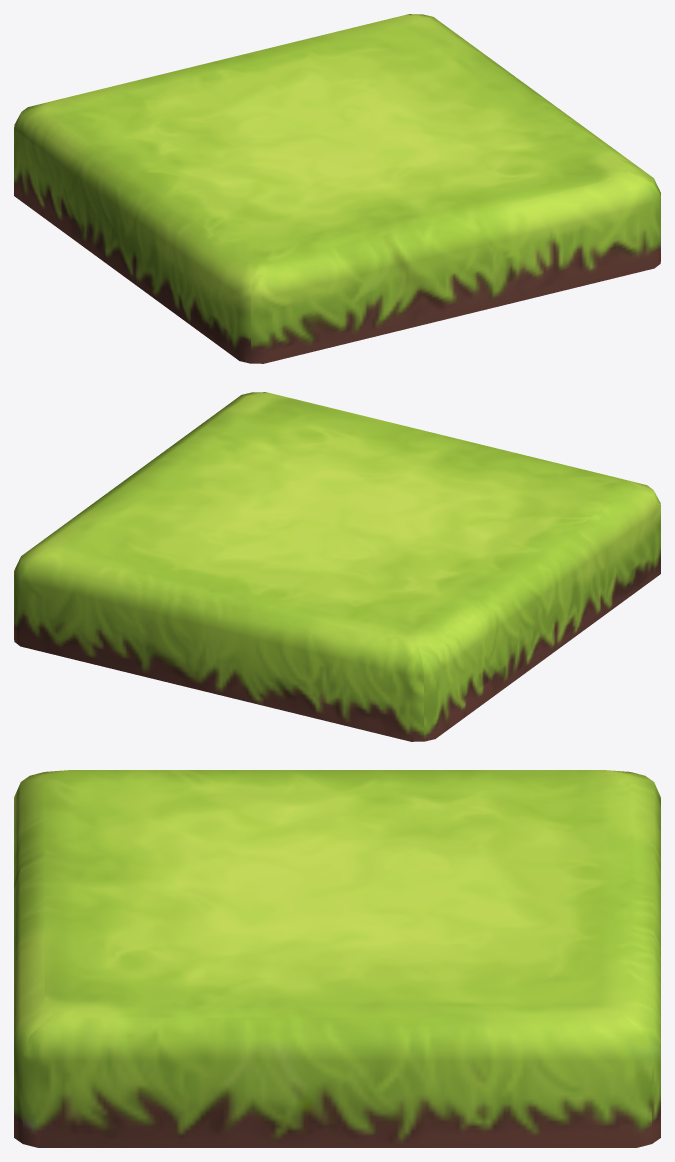
File: Block_Cap_Grass.fbx
3 views of the same model, one above another, from view 1: azimuth 30°, elevation 25°; view 2: azimuth 150°, elevation 25°; view 3: azimuth 270°, elevation 25° (orthographic). The views are drawn at different scales.
Parts seen in each view (by area): view 1: Block_Cap_Grass; view 2: Block_Cap_Grass; view 3: Block_Cap_Grass.
Boxes of the visible parts, <box> form: Block_Cap_Grass: <box>14,14,660,363</box>; Block_Cap_Grass: <box>14,392,660,741</box>; Block_Cap_Grass: <box>14,770,660,1147</box>.
Size of the model in its own units: 100 by 20 by 100.
